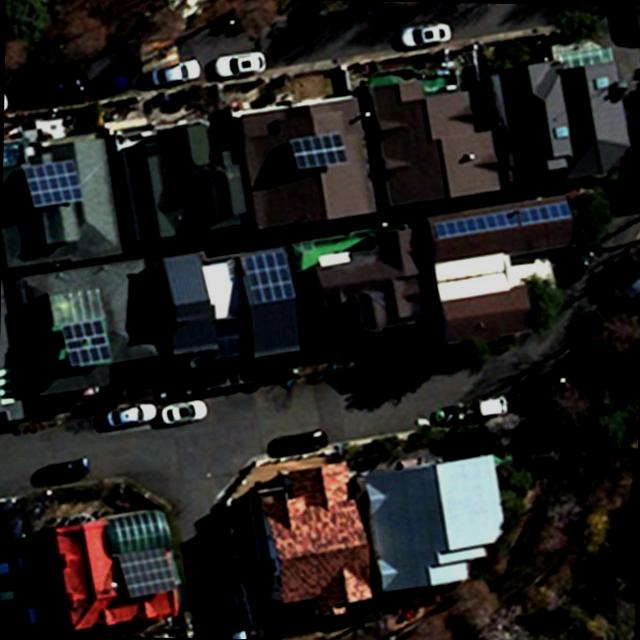solar: (432, 194, 572, 242), (20, 154, 87, 211), (113, 544, 182, 598), (240, 244, 300, 306), (286, 128, 348, 172), (61, 316, 112, 368)
